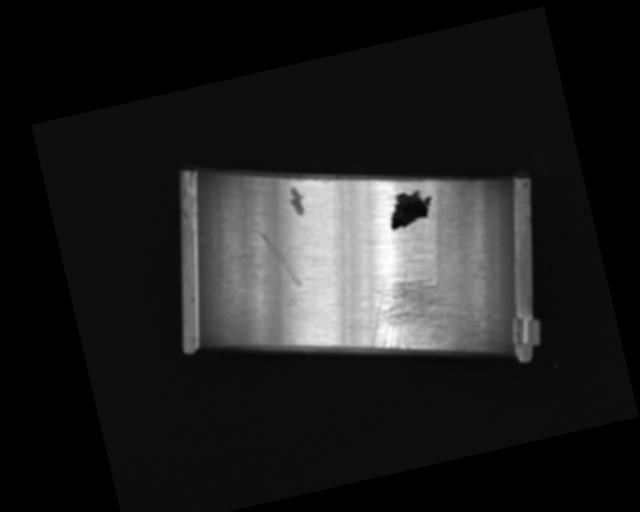blot: (383, 184, 438, 231)
bruise: (285, 184, 308, 218)
nick: (317, 181, 363, 295), (256, 221, 303, 295)
scratch: (354, 254, 484, 374)
